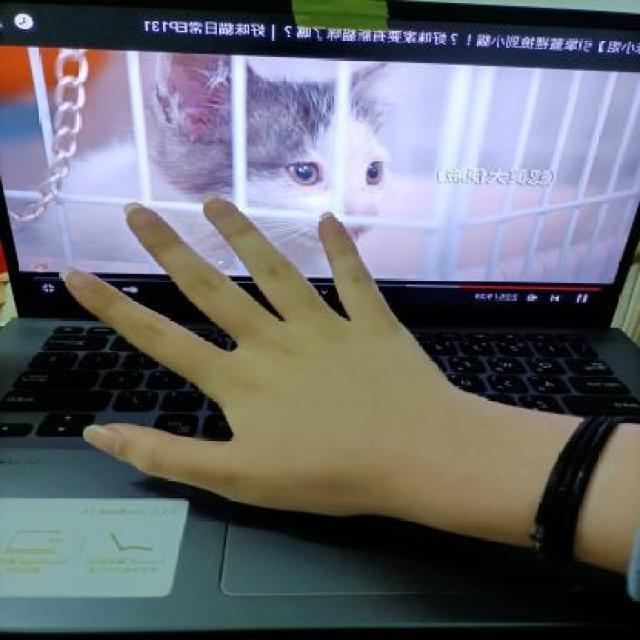hand: (51, 185, 483, 538)
